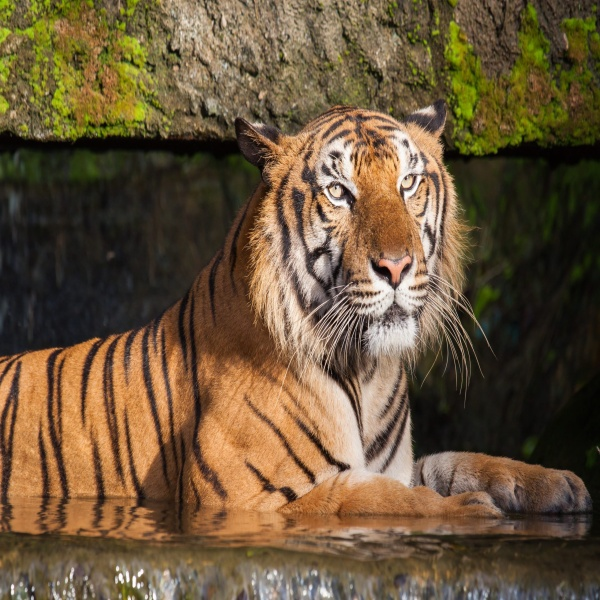Tiger: (3, 98, 593, 549)
